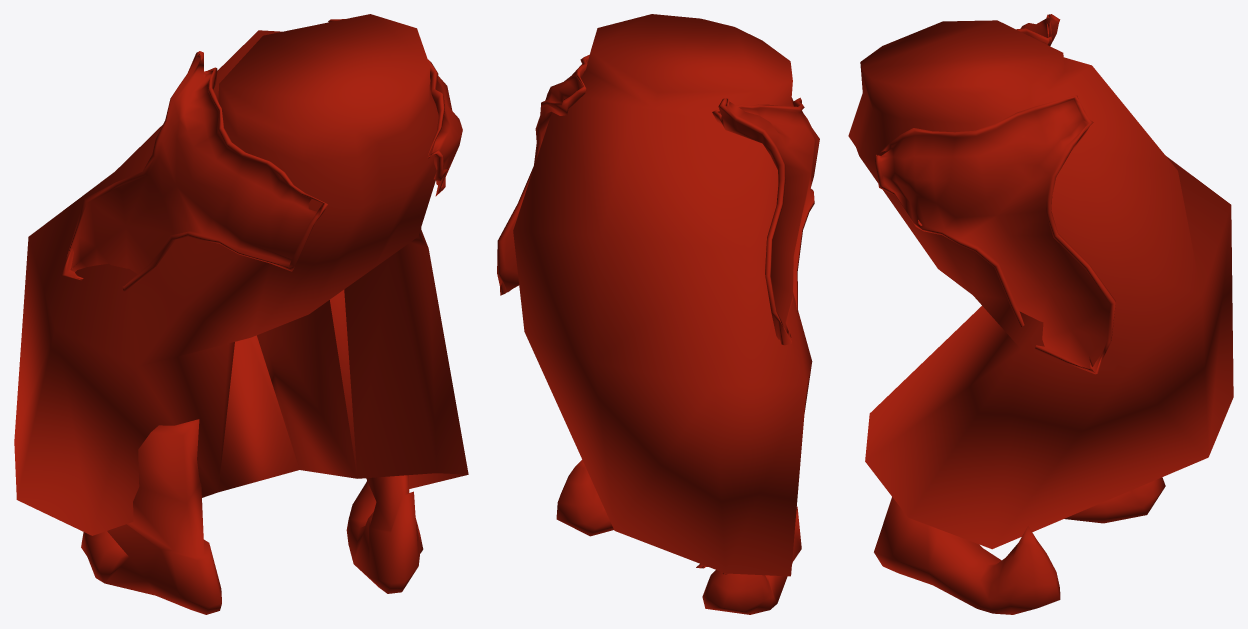
The model's file is bot_000061.obj.
3 renders of one model, left to right at view 1: azimuth 30°, elevation 25°; view 2: azimuth 150°, elevation 25°; view 3: azimuth 270°, elevation 25°, orthographic. The views are drawn at different scales.
Parts seen in each view (by area): view 1: LowPoly_Warlock.004_Plane.004; view 2: LowPoly_Warlock.004_Plane.004; view 3: LowPoly_Warlock.004_Plane.004.
Part boxes in pixels (box(x1,y1,x2,y2)): LowPoly_Warlock.004_Plane.004: box(14, 14, 468, 614); LowPoly_Warlock.004_Plane.004: box(497, 14, 819, 614); LowPoly_Warlock.004_Plane.004: box(848, 14, 1233, 614).
Bounding box in the file's own units: 0.6385 × 0.9297 × 0.6138.
